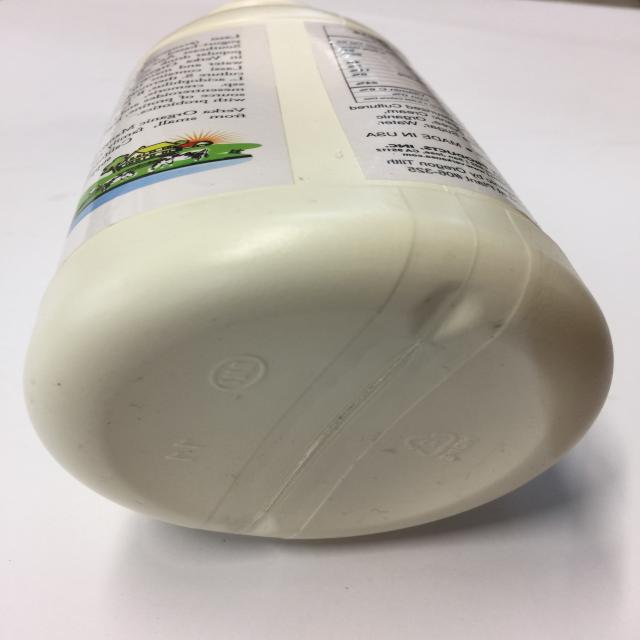plastic: (22, 0, 616, 541)
